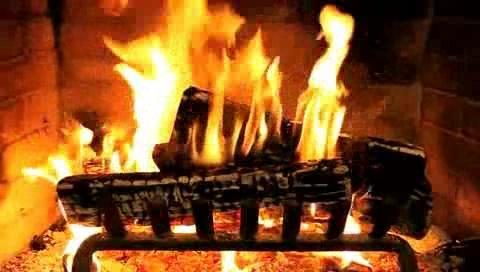fire: (98, 7, 352, 195)
